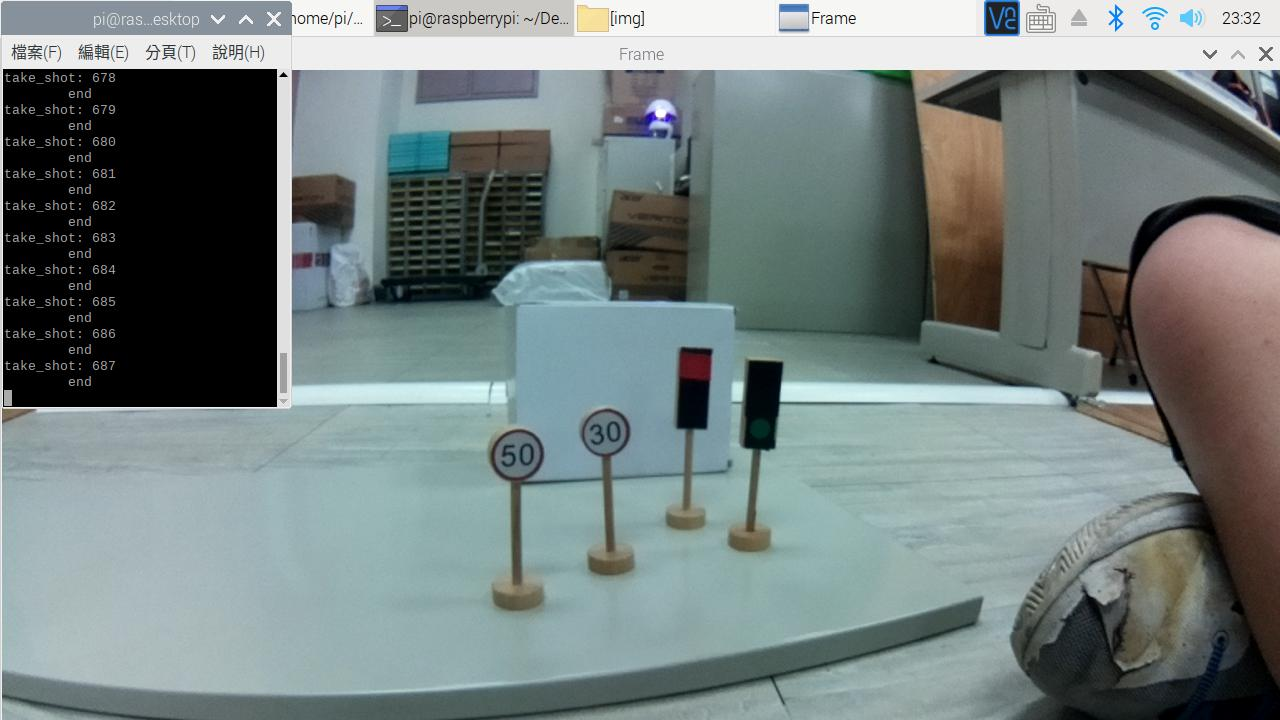Green: (737, 352, 792, 465)
Red: (666, 339, 720, 439)
Speed30: (579, 407, 639, 457)
Speed50: (482, 417, 559, 488)
